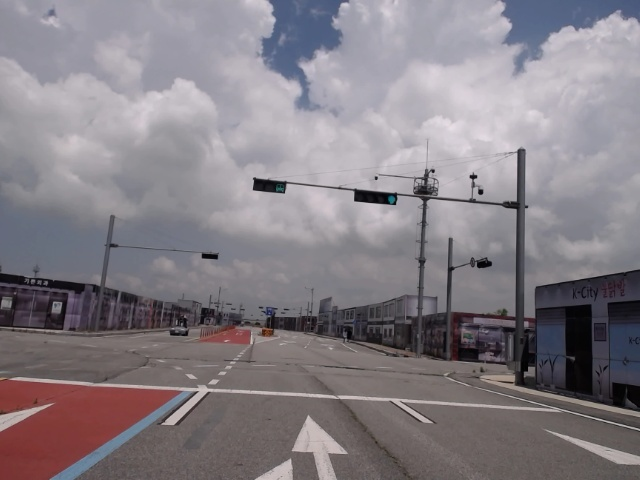straight_green_4: (351, 191, 397, 206)
